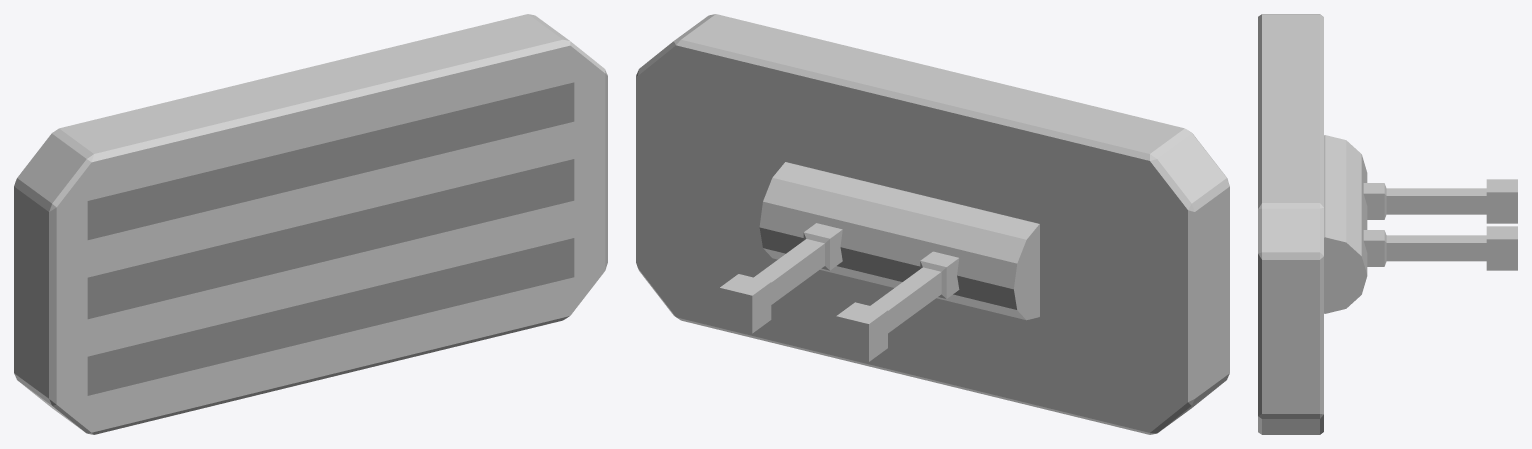
File: light_07.fbx
3 renders of one model, left to right at view 1: azimuth 30°, elevation 25°; view 2: azimuth 150°, elevation 25°; view 3: azimuth 270°, elevation 25°, orthographic. The views are drawn at different scales.
Parts seen in each view (by area): view 1: Cube.436, Cube.437; view 2: Cube.436, Cube.438; view 3: Cube.436, Cube.438.
Part boxes in pixels (box(x1,y1,x2,y2)): Cube.436: box(14, 14, 607, 434); Cube.437: box(87, 82, 574, 395); Cube.436: box(636, 14, 1229, 434); Cube.438: box(719, 162, 1039, 361); Cube.436: box(1258, 14, 1323, 434); Cube.438: box(1324, 135, 1517, 313).
Bounding box in the file's own units: 1.47 × 0.7044 × 0.7161.
